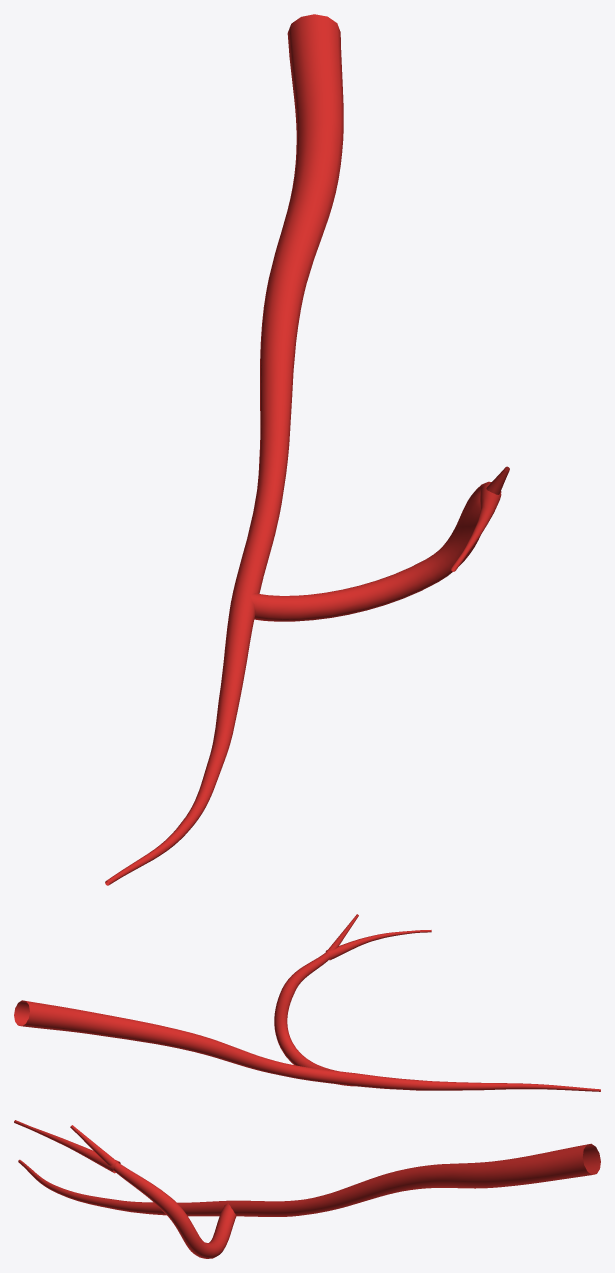
Rendered from circulatorio-submental-artery-l.glb.
The picture shows the model from 3 angles, top to bottom: view 1: azimuth 30°, elevation 25°; view 2: azimuth 150°, elevation 25°; view 3: azimuth 270°, elevation 25°; orthographic projection. The views are drawn at different scales.
Visible parts, largest first — view 1: Submental artery.l; view 2: Submental artery.l; view 3: Submental artery.l.
Part boxes in pixels (left/top/right/bottom): Submental artery.l: left=105, top=14, right=509, bottom=885; Submental artery.l: left=14, top=914, right=600, bottom=1091; Submental artery.l: left=14, top=1120, right=600, bottom=1258.
Bounding box in the file's own units: 0.0306 × 0.015 × 0.0367.
